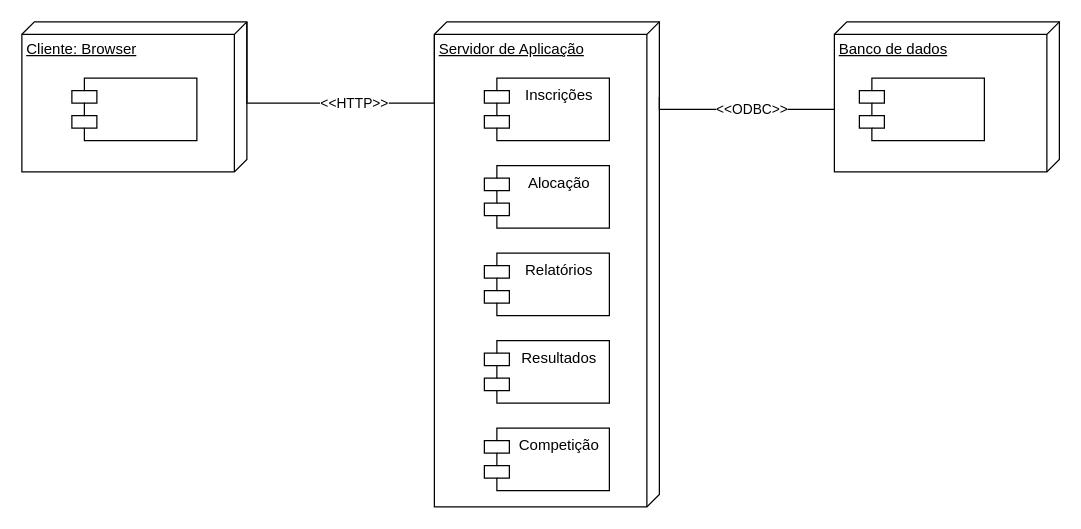
Some shapes in this 1081 by 529 pixel diagram are drawn without their labels. The centre of each missing label's shape, as x and y in pixels:
Gerenciar Olimpíadas: (x=134, y=109)
SGBD: (x=921, y=109)
